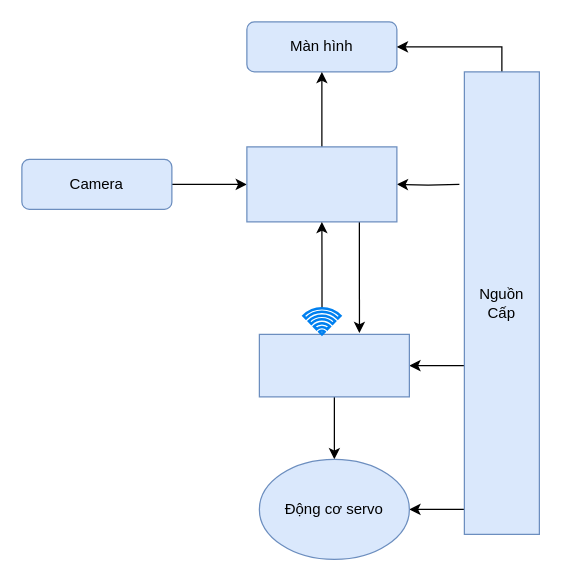
The diagram is 561 pixels wide and 581 high, and some of its shapes have lost their labels. The box of each missing label's shape, as (x1, y1, x2, y2) in pixels:
Raspberry pi 3: (246, 146, 397, 222)
Uno Wifi Wemos D1: (258, 333, 409, 397)
